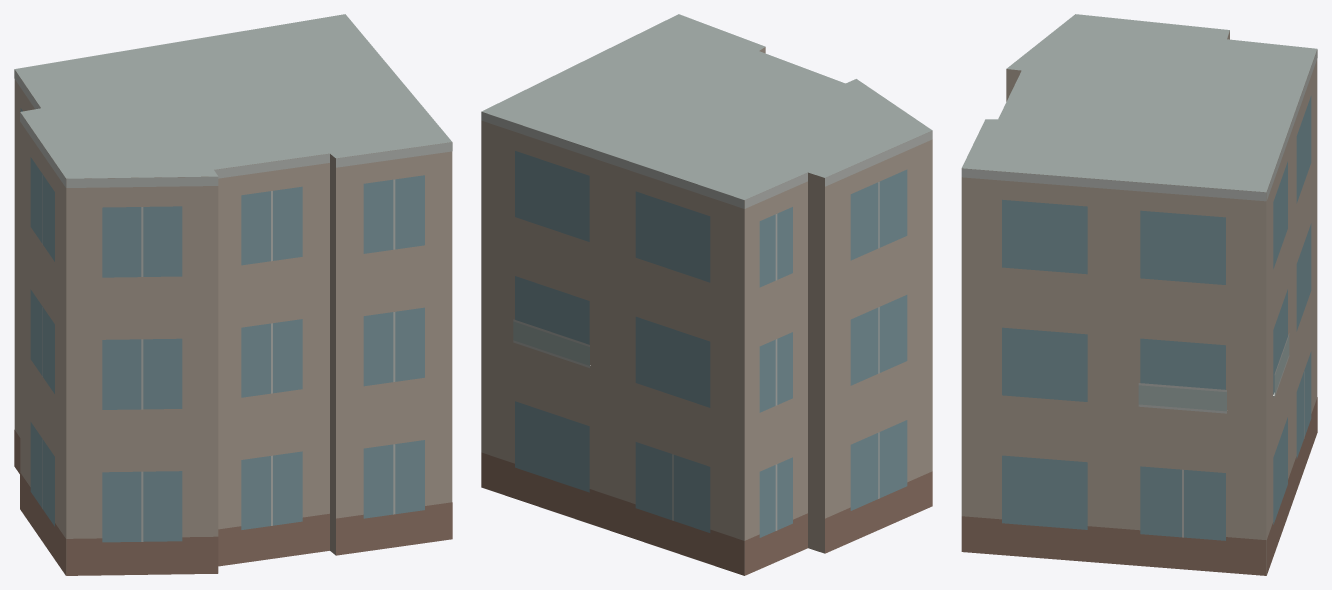
File: survey-upis-32489699.glb
3 renders of one model, left to right at view 1: azimuth 30°, elevation 25°; view 2: azimuth 150°, elevation 25°; view 3: azimuth 270°, elevation 25°, orthographic. The views are drawn at different scales.
Visible parts, largest first — view 1: survey-upis-32489699.tmp; view 2: survey-upis-32489699.tmp; view 3: survey-upis-32489699.tmp.
Part boxes in pixels (<box>): survey-upis-32489699.tmp: <box>14,14,452,575</box>; survey-upis-32489699.tmp: <box>481,14,932,575</box>; survey-upis-32489699.tmp: <box>961,14,1317,575</box>.
Bounding box in the file's own units: 10.28 × 10.3 × 8.67.
